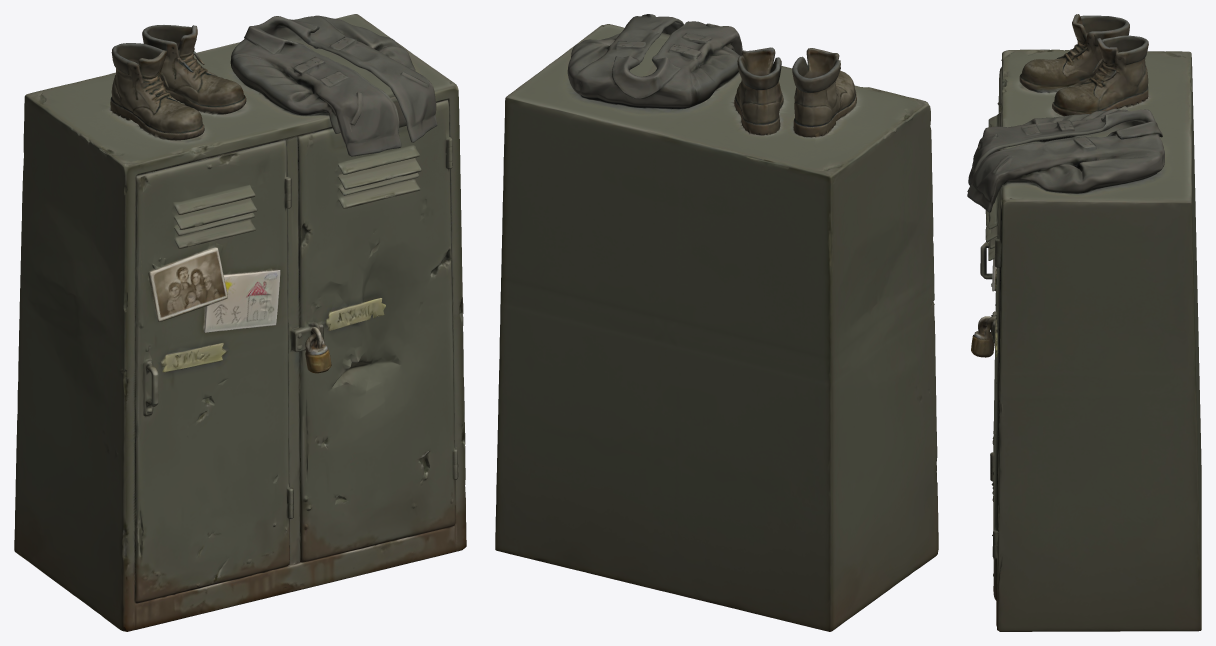
Rendered from silo81_locker.glb.
3 renders of one model, left to right at view 1: azimuth 30°, elevation 25°; view 2: azimuth 150°, elevation 25°; view 3: azimuth 270°, elevation 25°, orthographic. The views are drawn at different scales.
Visible parts, largest first — view 1: tripo_node_6edc9ee3-6ef4-4480-8ef5-c6955e094970; view 2: tripo_node_6edc9ee3-6ef4-4480-8ef5-c6955e094970; view 3: tripo_node_6edc9ee3-6ef4-4480-8ef5-c6955e094970.
Boxes of the visible parts, <box> form: tripo_node_6edc9ee3-6ef4-4480-8ef5-c6955e094970: <box>14,14,466,631</box>; tripo_node_6edc9ee3-6ef4-4480-8ef5-c6955e094970: <box>495,14,938,631</box>; tripo_node_6edc9ee3-6ef4-4480-8ef5-c6955e094970: <box>967,14,1201,631</box>.
Size of the model in its own units: 0.668 by 0.9811 by 0.4247.
1 material, 1 textured.
